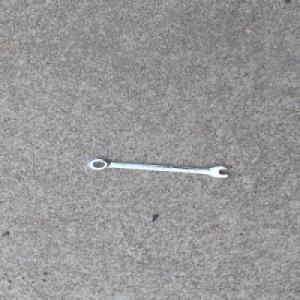Wrench: (85, 157, 230, 179)
